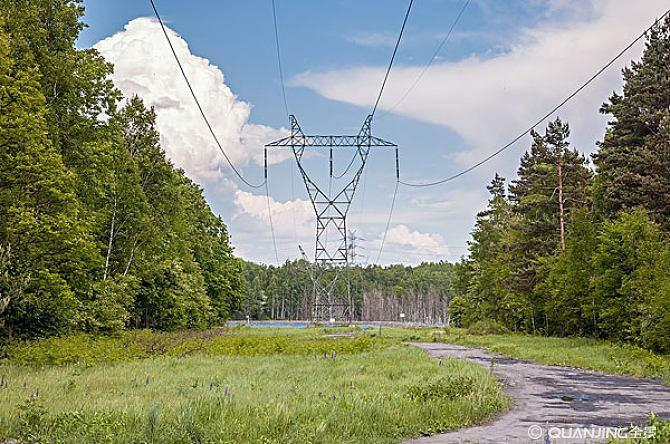power_tower: (255, 111, 409, 330)
